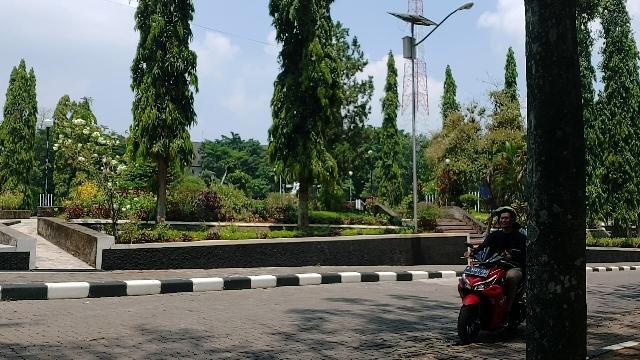motor: (457, 249, 526, 344)
non-helm: (501, 210, 518, 230)
